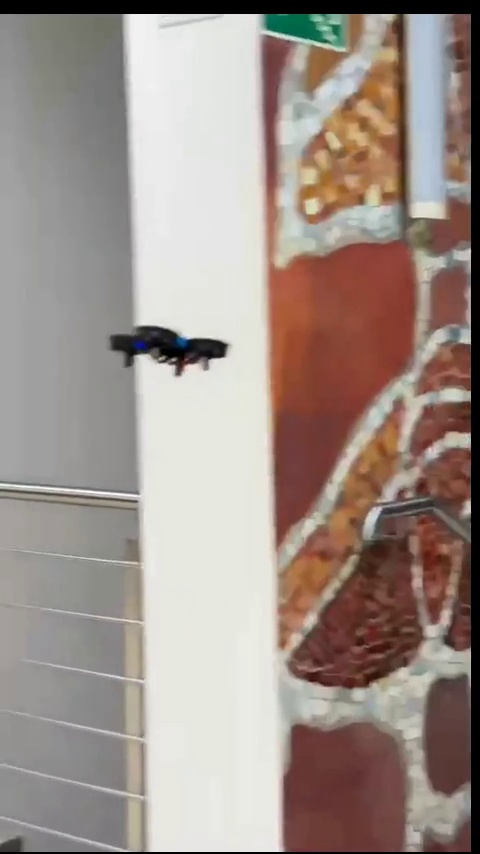drone: (111, 325, 231, 378)
